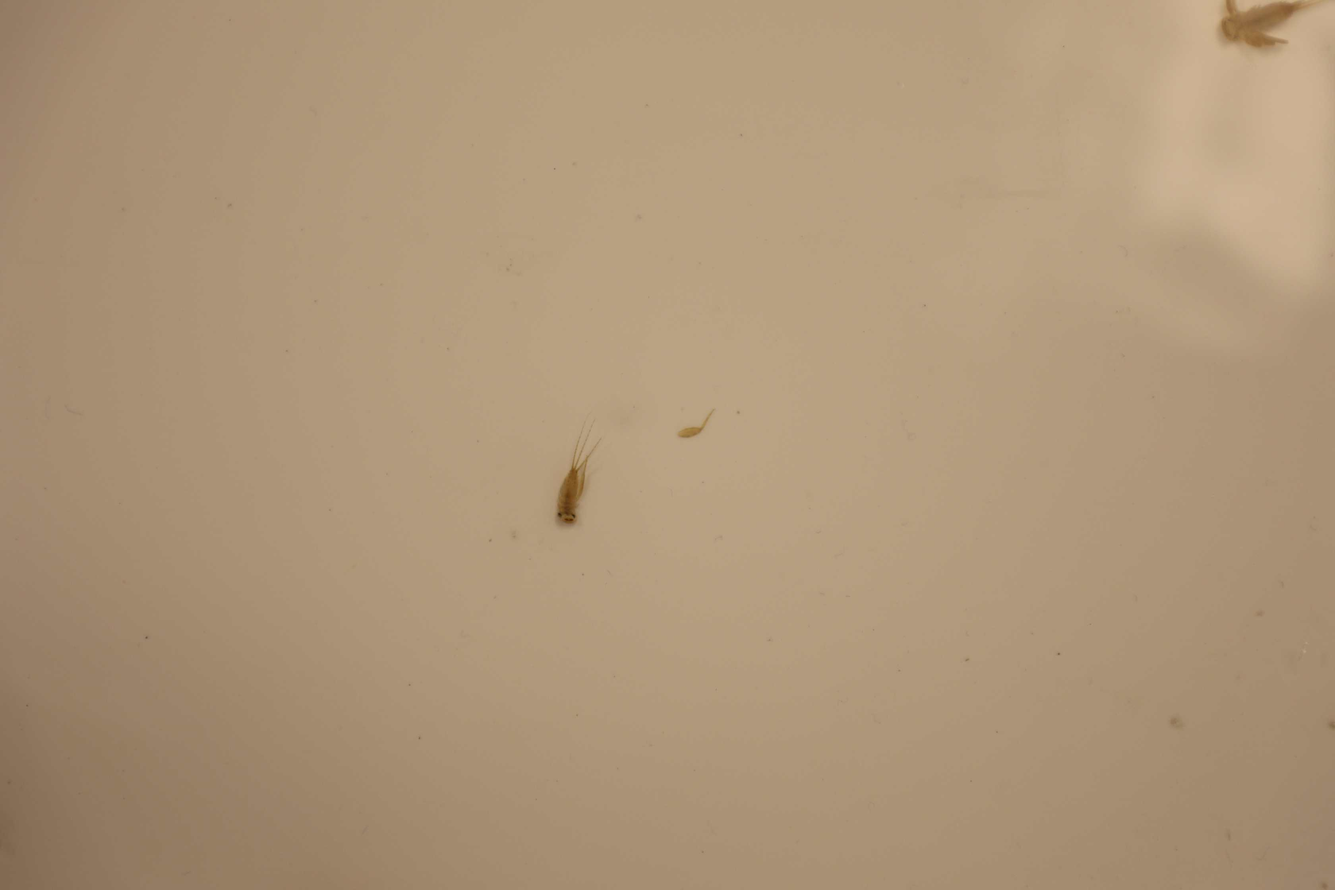Mayfly: (1204, 0, 1335, 61), (555, 407, 605, 530), (675, 399, 716, 443)
